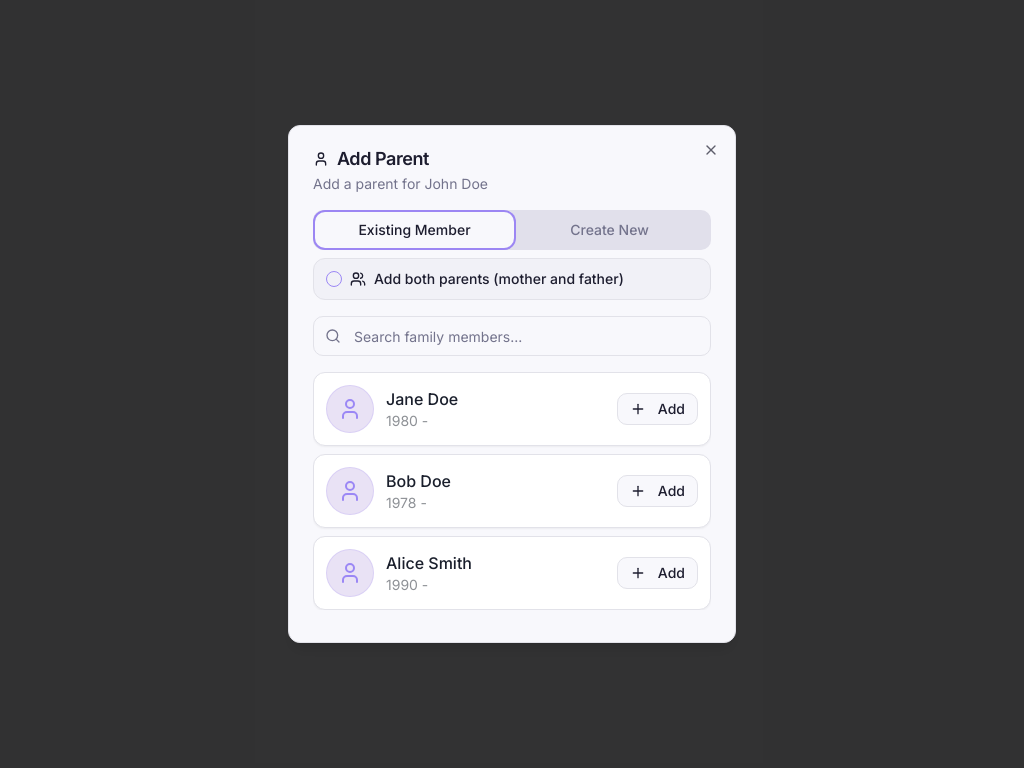
Scenario: AddRelationshipDialog › Adding Both Parents - Existing Members › should add both parents when both are selected
Expected: the text "Jane Doe" is shown, [386,389,458,409]
Check the checkbox
Click the checkbox named "Add both parents" at (334, 279), box [326,271,342,287]
(page scrolled)
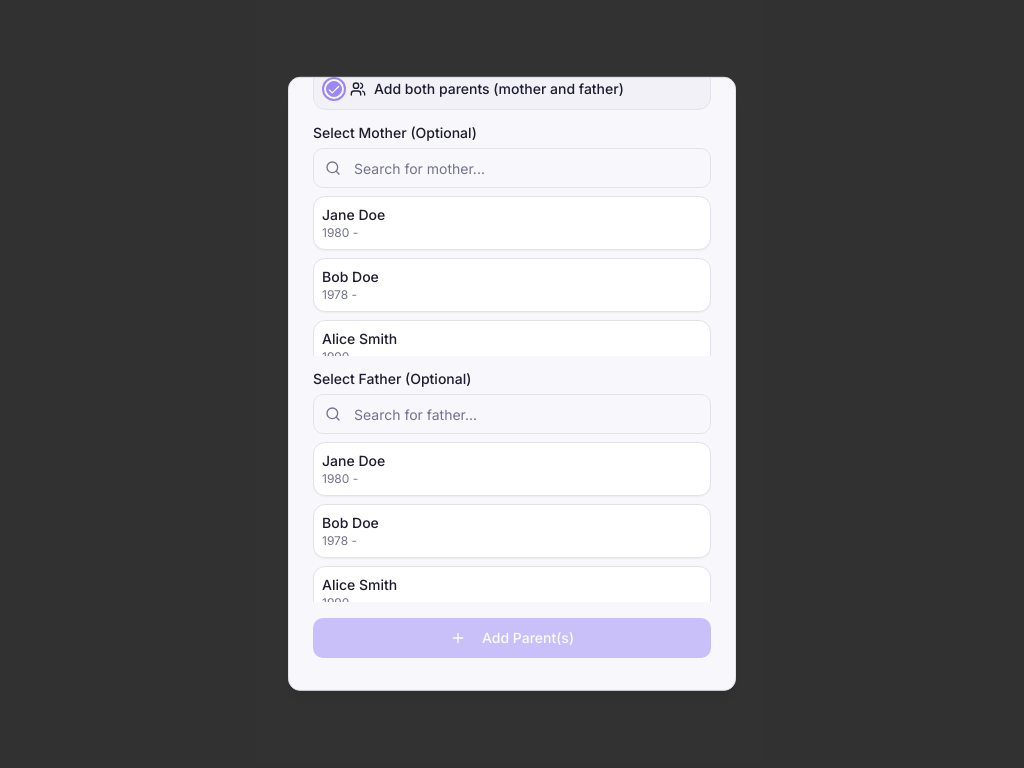
Now the text "Select Mother (Optional)" is shown, box [313,124,477,141]
Now the button "Add Parent(s)" is disabled, box [313,618,711,658]
